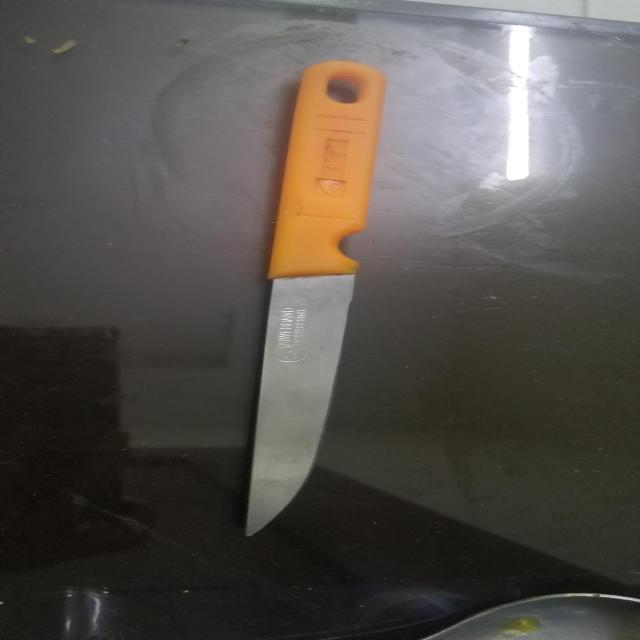Knife: (244, 60, 388, 540)
